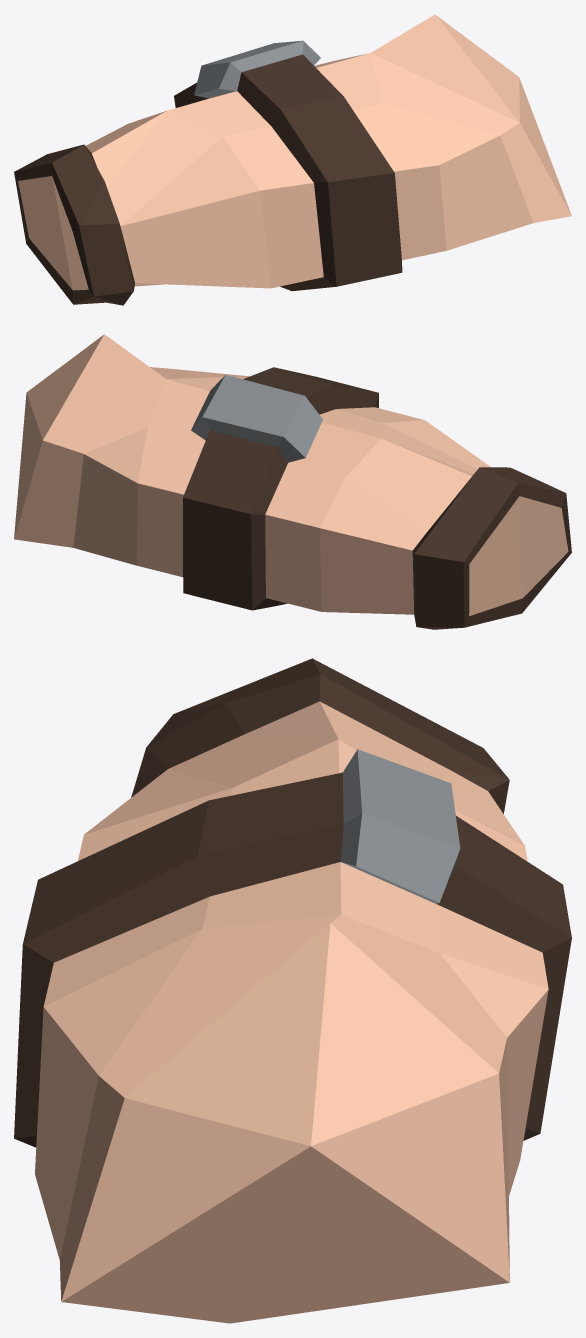
Rendered from Chr_ArmUpperRight_Male_16_Static.fbx.
The picture shows the model from 3 angles, top to bottom: view 1: azimuth 30°, elevation 25°; view 2: azimuth 150°, elevation 25°; view 3: azimuth 270°, elevation 25°; orthographic projection. The views are drawn at different scales.
Parts seen in each view (by area): view 1: Chr_ArmUpperRight_Male_16_Static; view 2: Chr_ArmUpperRight_Male_16_Static; view 3: Chr_ArmUpperRight_Male_16_Static.
Part boxes in pixels (x1=…): Chr_ArmUpperRight_Male_16_Static: x1=14, y1=14, x2=571, y2=305; Chr_ArmUpperRight_Male_16_Static: x1=14, y1=334, x2=571, y2=629; Chr_ArmUpperRight_Male_16_Static: x1=14, y1=658, x2=571, y2=1323.
Bounding box in the file's own units: 0.3345 × 0.1456 × 0.1776.
